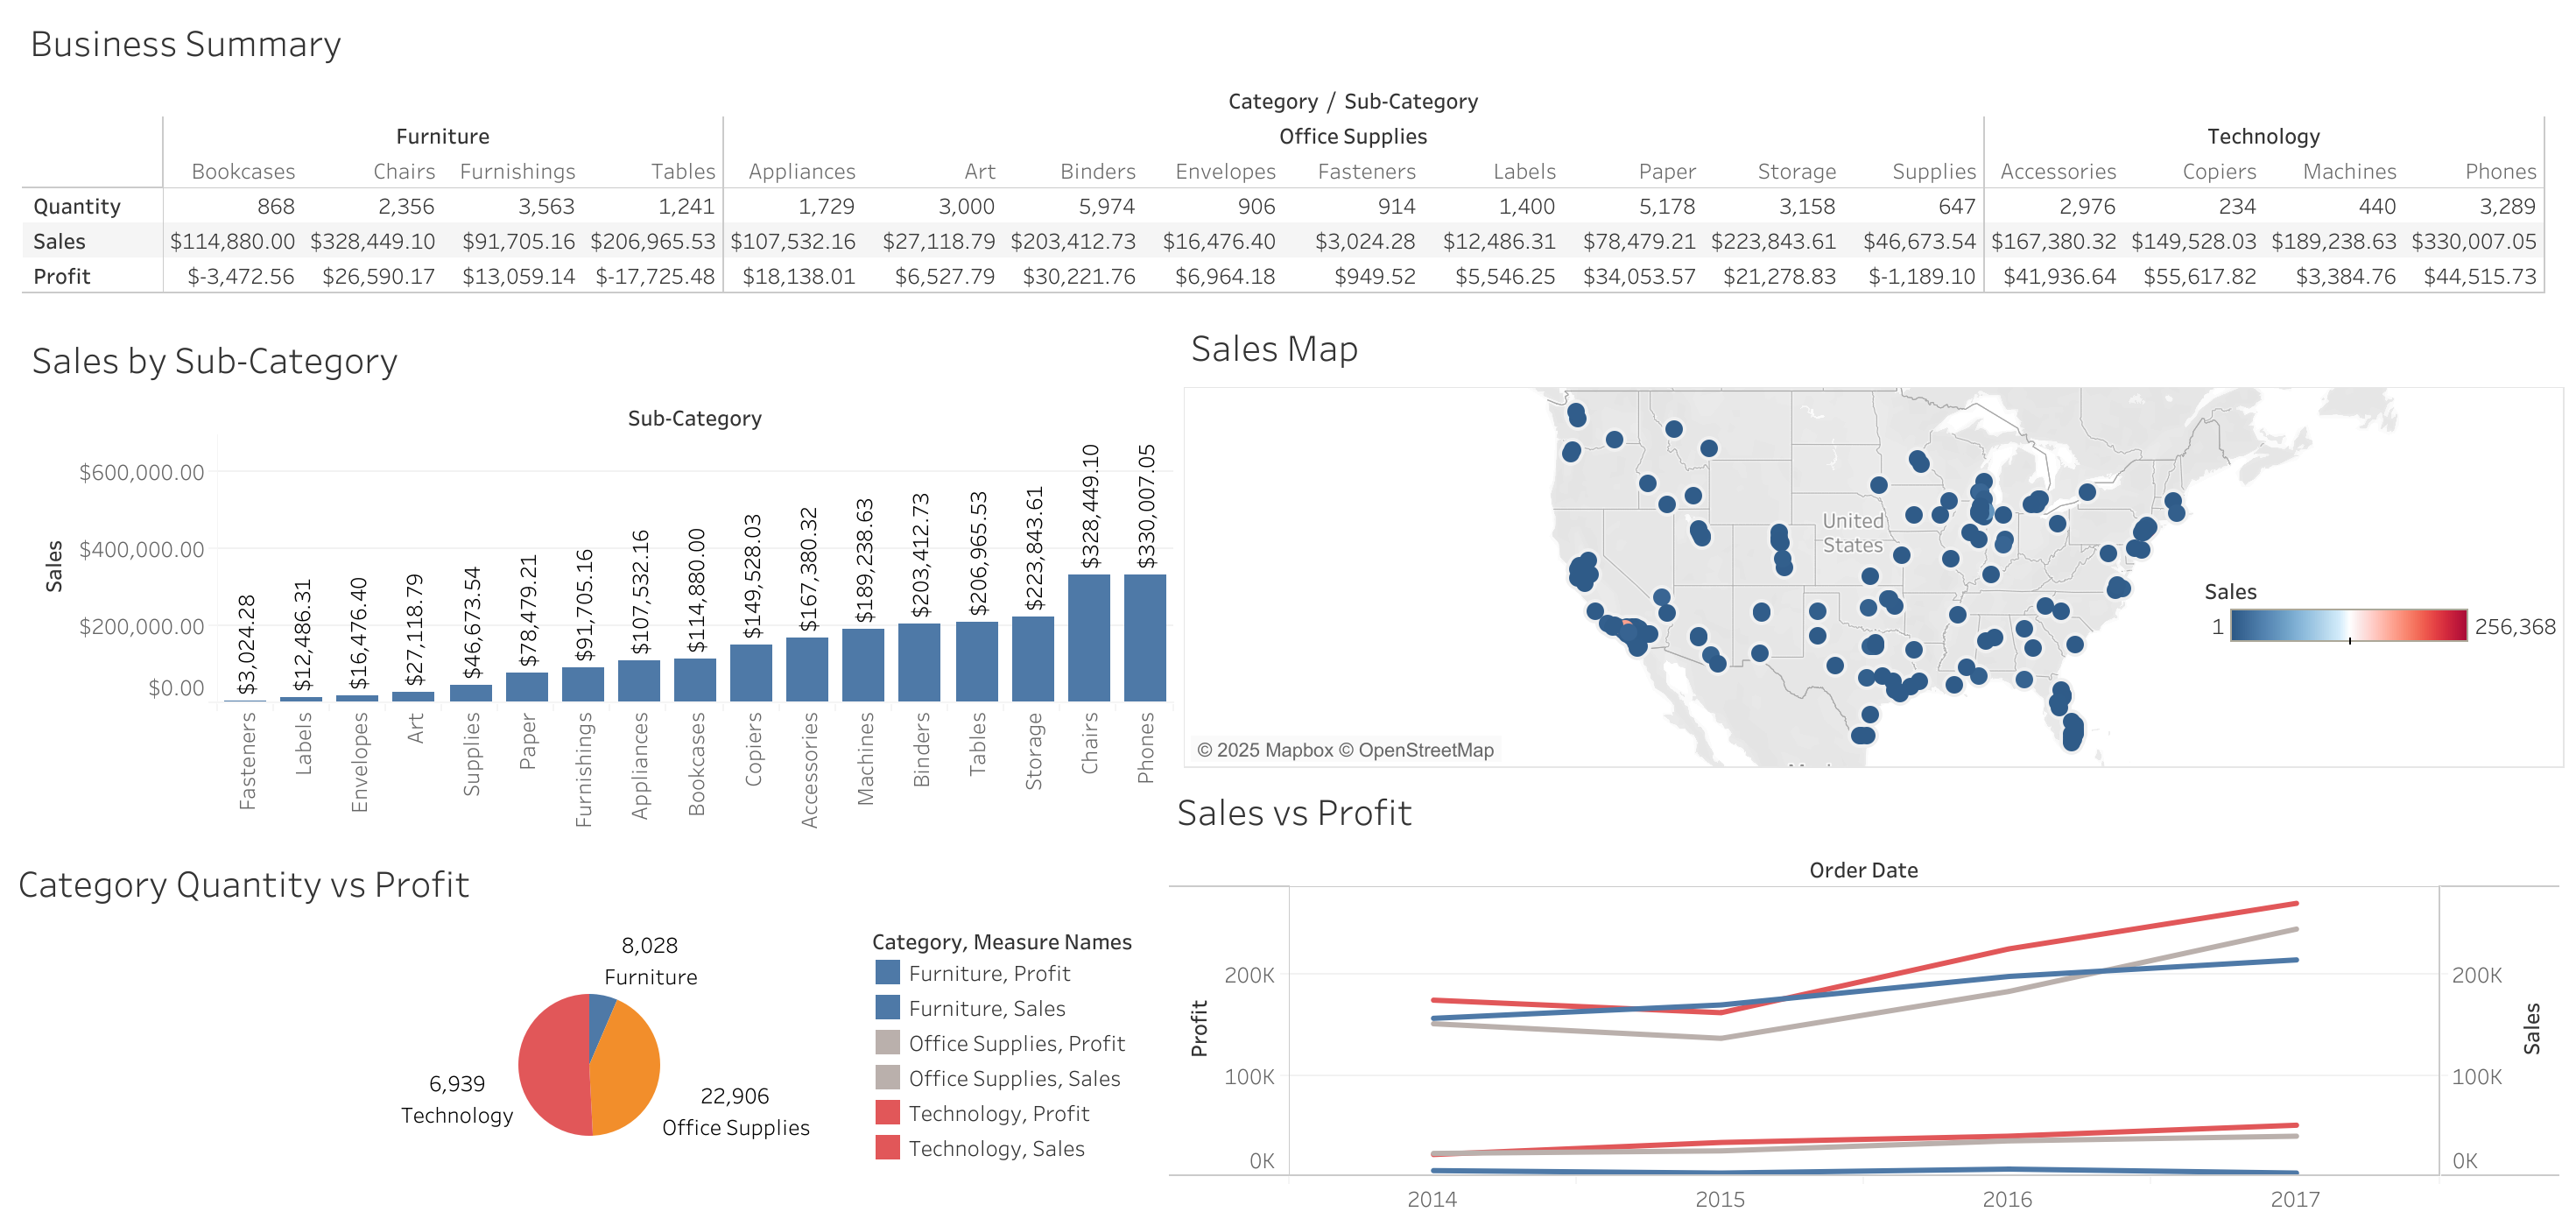

The page's visual inventory and layout, read from the dashboard file:
{"tool":"tableau","page":{"name":"Dashboard 1","canvas":[1000,1000],"units":"permille","ordinal":0},"visuals":[{"type":"worksheet","title":"Business Summary","mark":"Automatic","cols":["Category","Sub-Category"],"box":[9,6.2,981,251.2]},{"type":"worksheet","title":"Sales Map","mark":"Automatic","box":[459.3,254.9,536.1,374.8]},{"type":"worksheet","title":"Sales by Sub-Category","mark":"Automatic","rows":["Sales"],"cols":["Sub-Category"],"box":[9.3,265.4,446.1,424.3]},{"type":"legend","title":"Sales Map","param":"[federated.0i6s2wn0nltzsf18v3ey51g9rc61].[sum:Sales:qk]","box":[855,465,140,100]},{"type":"worksheet","title":"Sales vs Profit","mark":"Automatic","rows":["Profit","Sales"],"cols":["Order Date"],"box":[453.8,635.7,539.2,359.8]},{"type":"worksheet","title":"Category Quantity vs Profit","mark":"Pie","box":[3.9,694.1,449.2,293.9]},{"type":"legend","title":"Sales vs Profit","param":"[federated.0i6s2wn0nltzsf18v3ey51g9rc61].[none:Category:nk]\n[federated.0i6s2wn0n","box":[337.5,754.1,117.2,208.4]}]}

Visuals, with their boxes on the dashboard's canvas, which has no fixed pixel size, in thousandths of its width and height (x1, y1, x2, y2). These are canvas units, not pixel positions in the 2576x1219 screenshot, which may show the page scaled, cropped or inside an application window:
"Business Summary" worksheet: crop(9, 6, 990, 257)
"Sales Map" worksheet: crop(459, 255, 995, 630)
"Sales by Sub-Category" worksheet: crop(9, 265, 455, 690)
"Sales Map" legend: crop(855, 465, 995, 565)
"Sales vs Profit" worksheet: crop(454, 636, 993, 996)
"Category Quantity vs Profit" worksheet (Pie marks): crop(4, 694, 453, 988)
"Sales vs Profit" legend: crop(338, 754, 455, 962)
